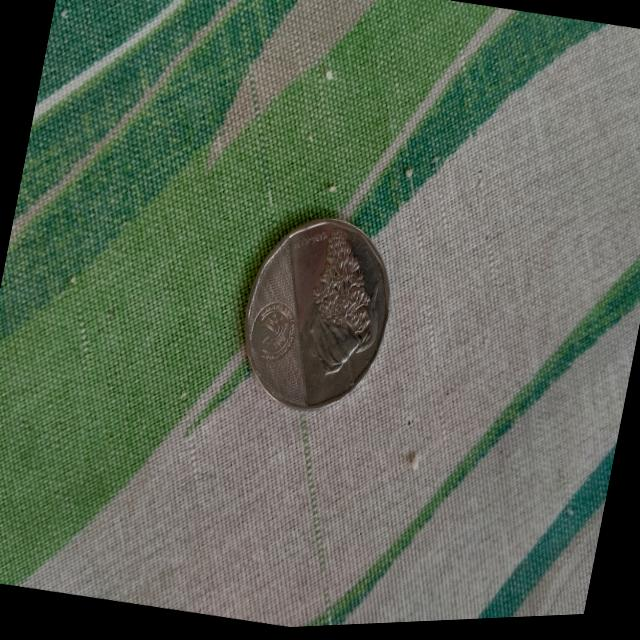10_New_Back: (290, 212, 400, 388)
